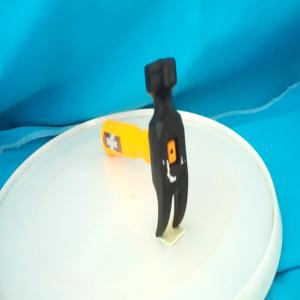martelo: (100, 56, 190, 239)
